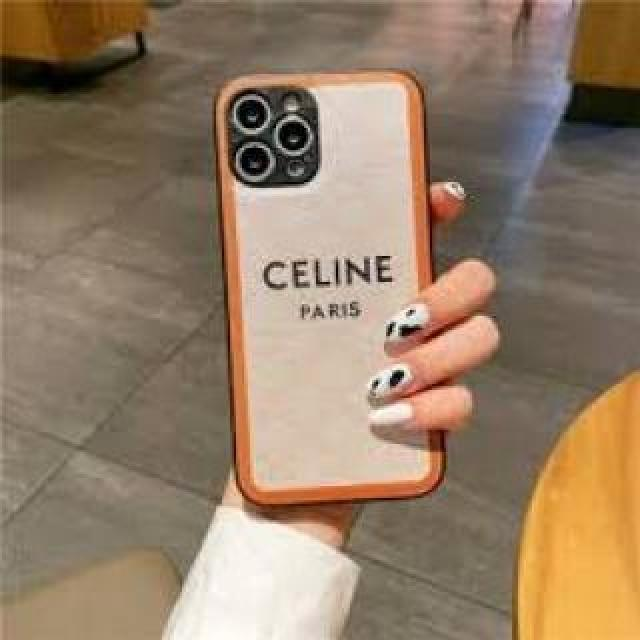smart phone: (187, 30, 450, 508)
